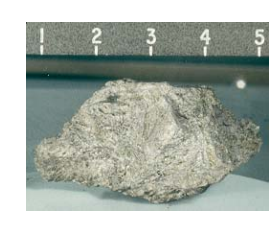Basalt: (31, 64, 265, 207)
